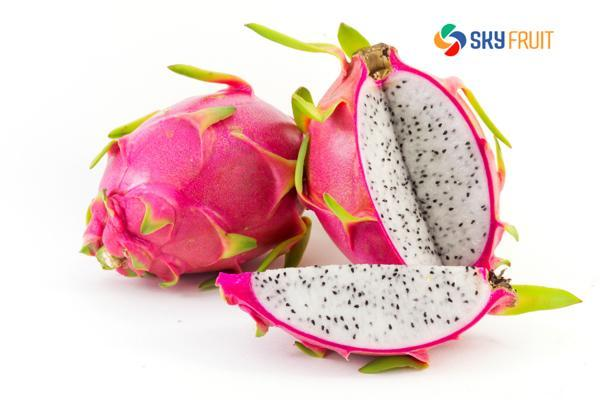dragon-fruit: (82, 88, 306, 276), (305, 63, 502, 271), (220, 262, 504, 357)
